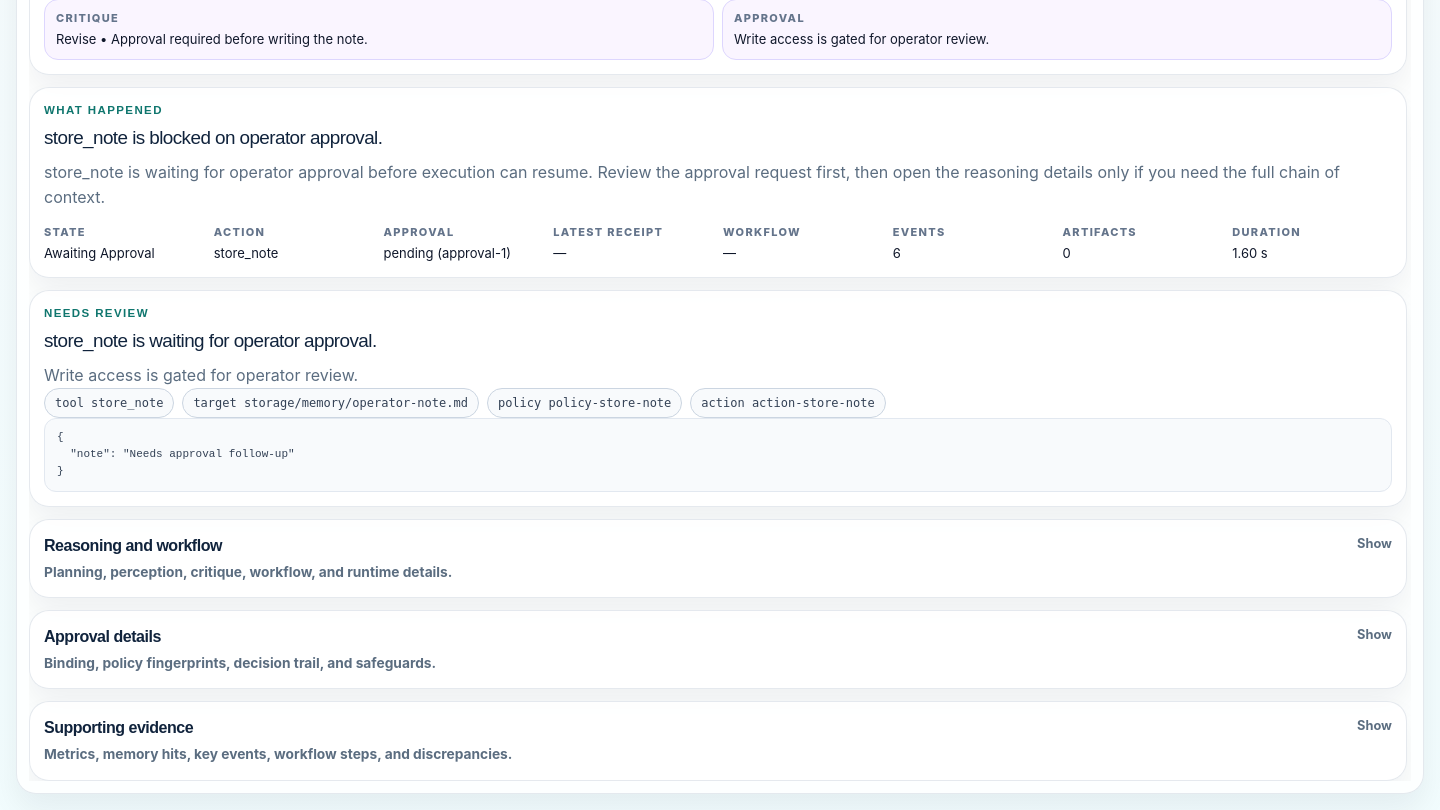
renders subsystem health and approval context for pending runs
(page scrolled)
Step 1. Click the button "Approval details" → point(102, 636), box top-left (44, 625), bottom-right (1392, 674)
(page scrolled)
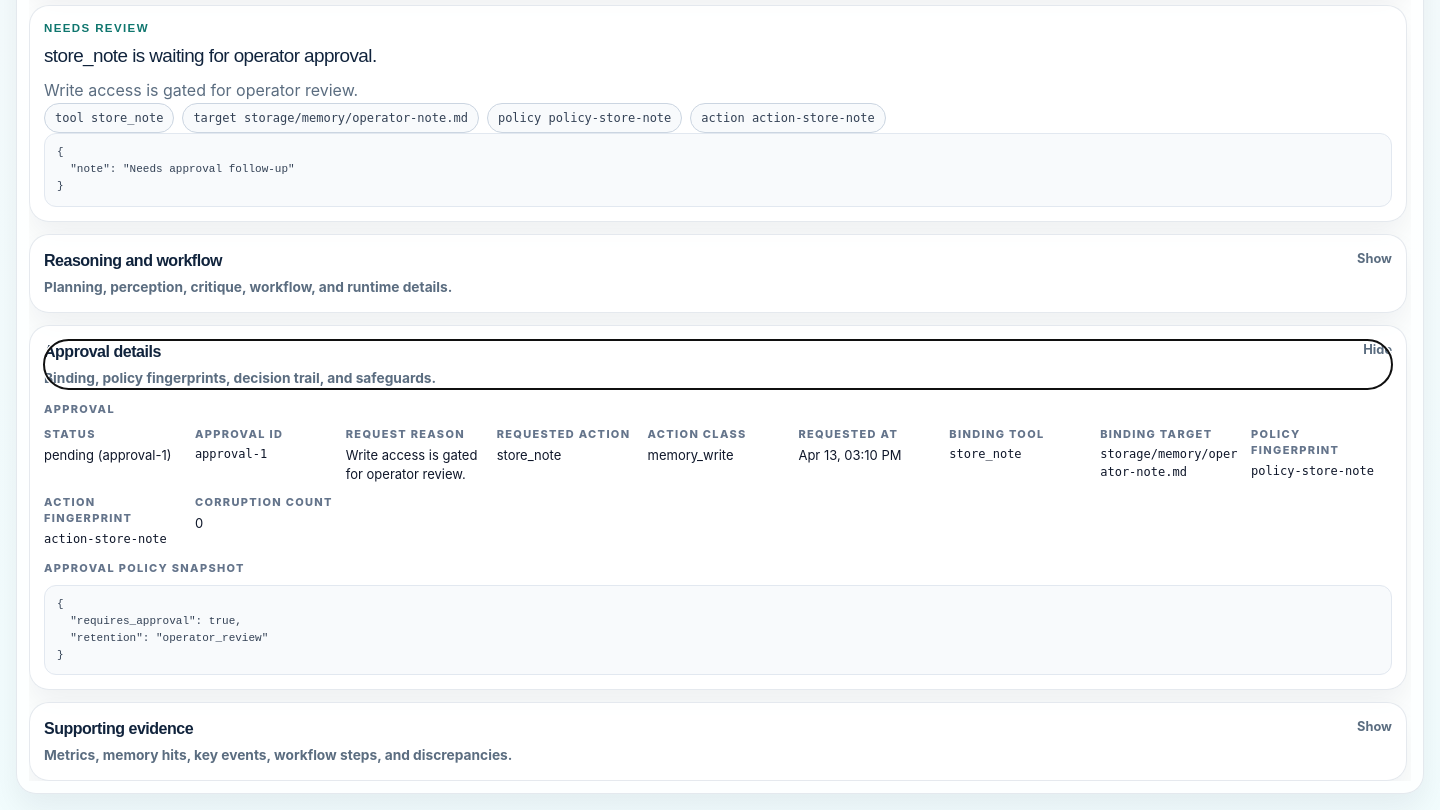
expect the text "Approval policy snapshot" is shown: met, box top-left (44, 561), bottom-right (245, 575)
